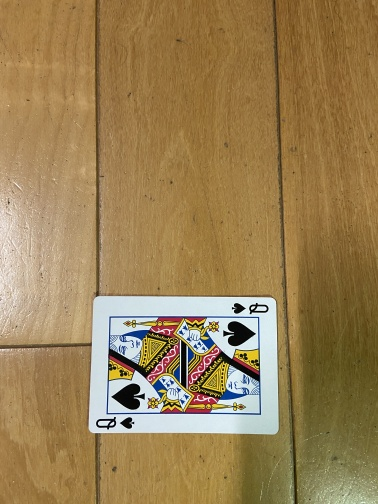queen: (88, 296, 280, 434)
